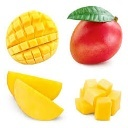mango: (70, 15, 124, 63)
